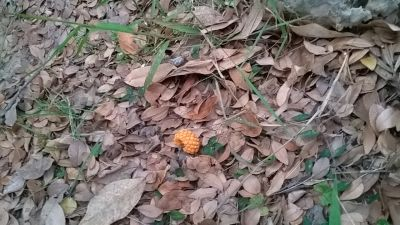eggs: (173, 128, 201, 154)
